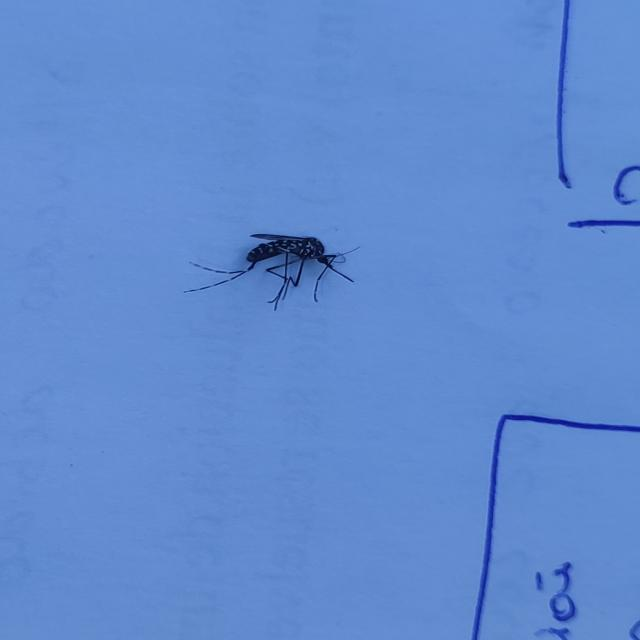albopictus: (187, 228, 363, 313)
